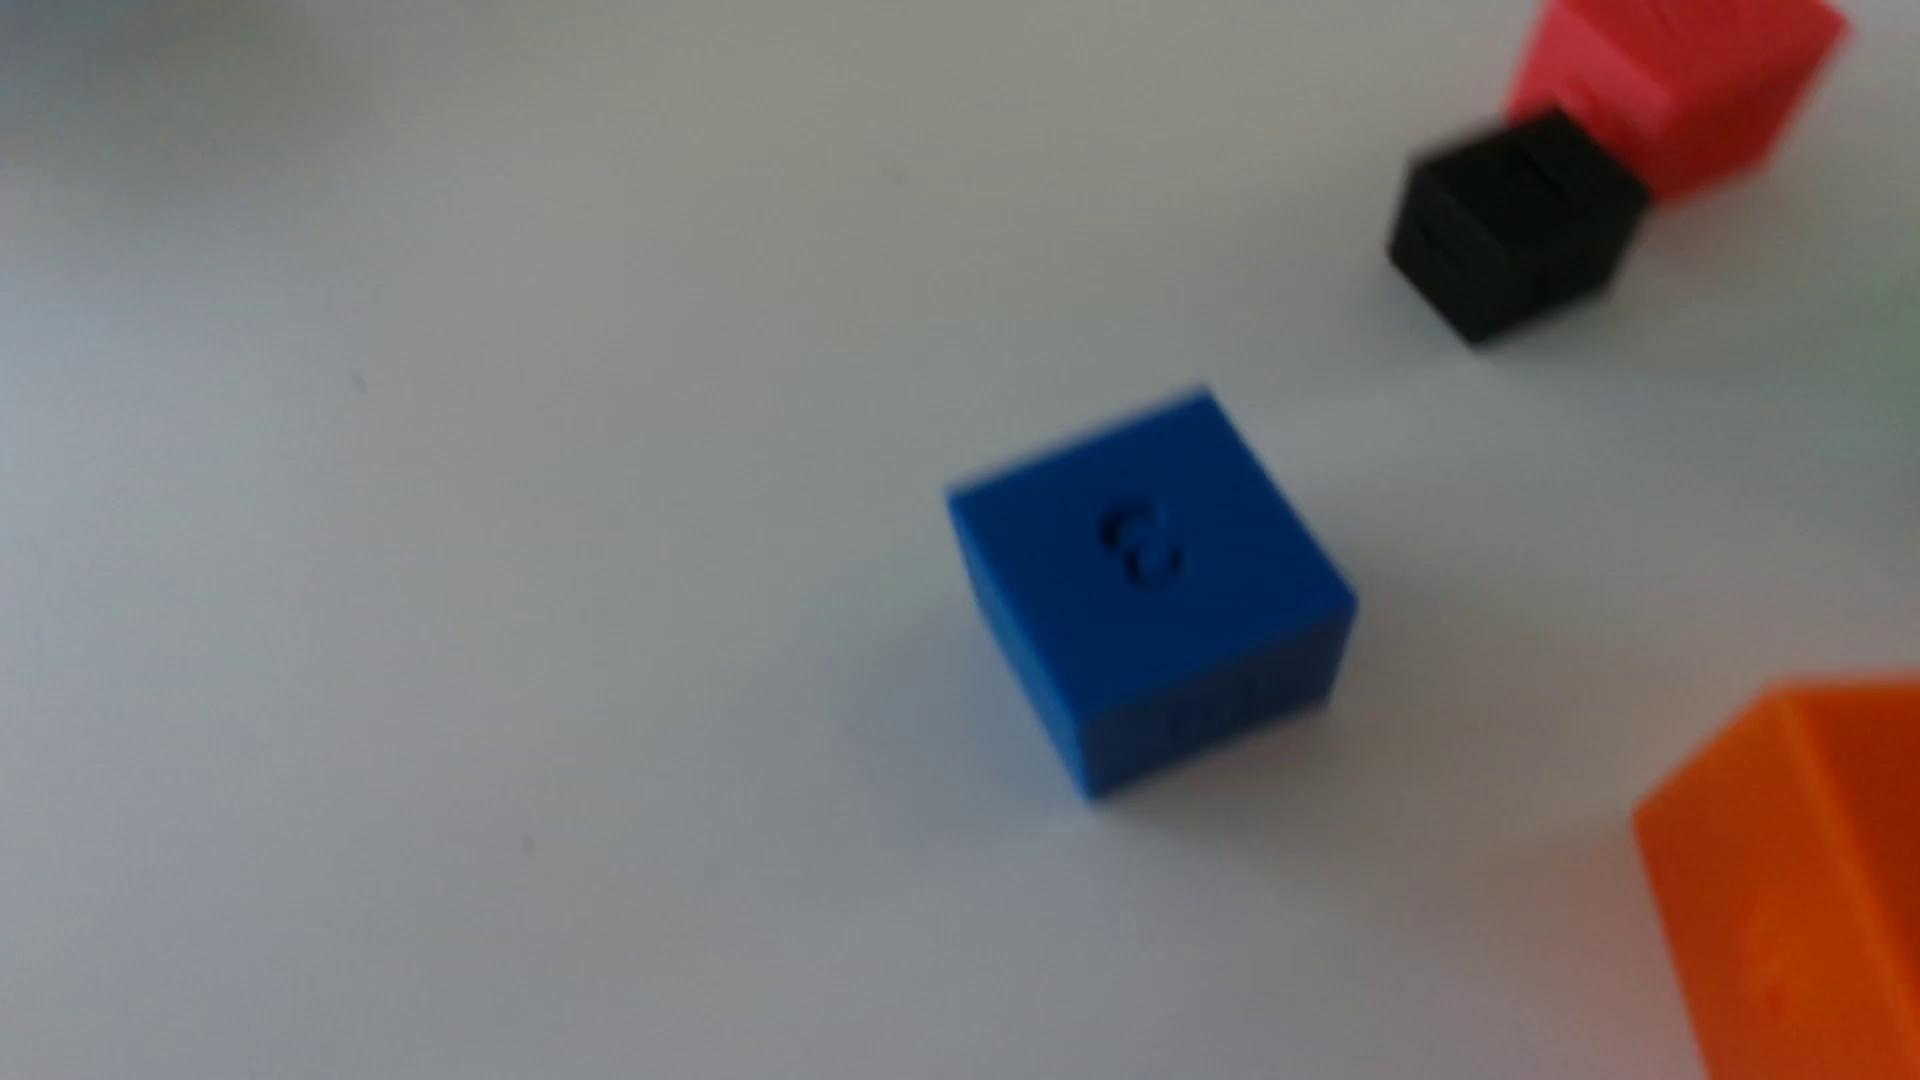black: (1387, 111, 1650, 348)
blue: (948, 392, 1356, 800)
orange: (1633, 679, 1920, 1080)
red: (1506, 0, 1849, 206)
